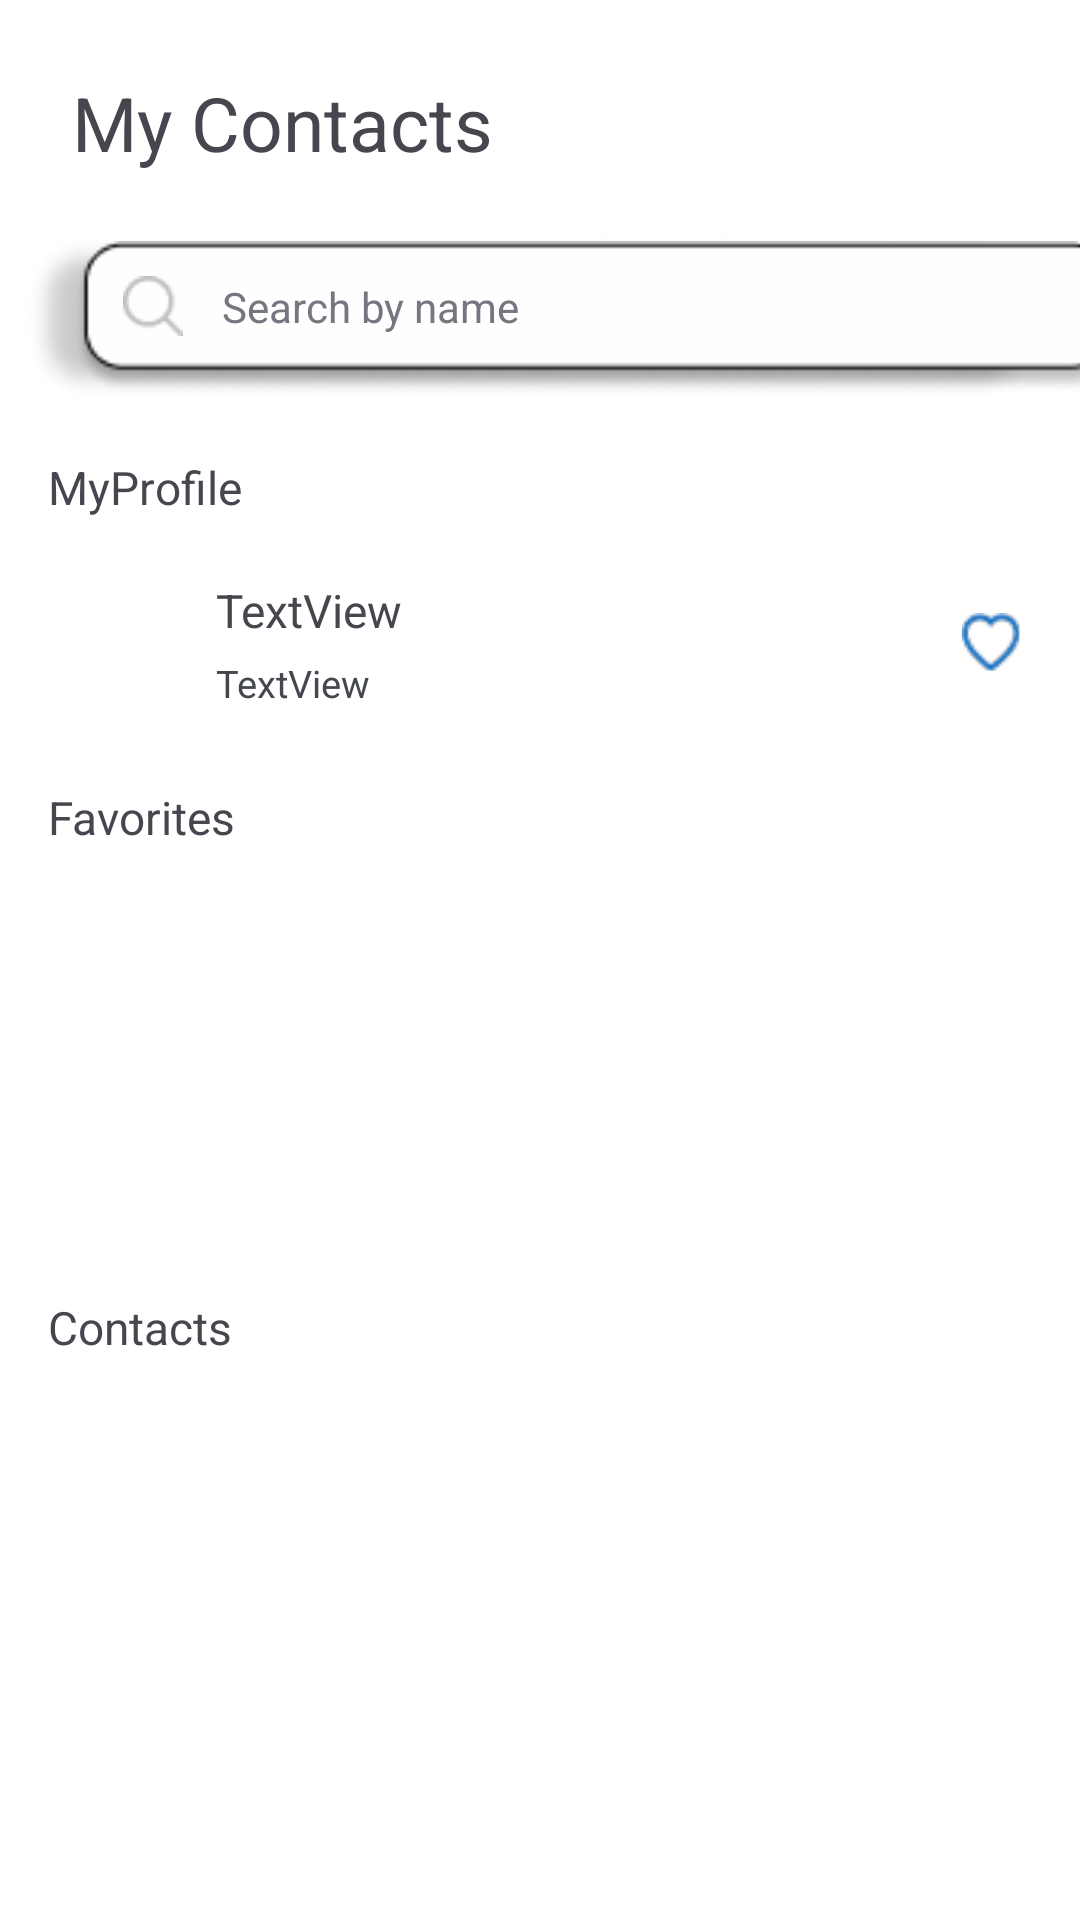

Icon click points for this 1080 x 1920 phone screenshot, format point (x, y):
like: point (991, 642)
